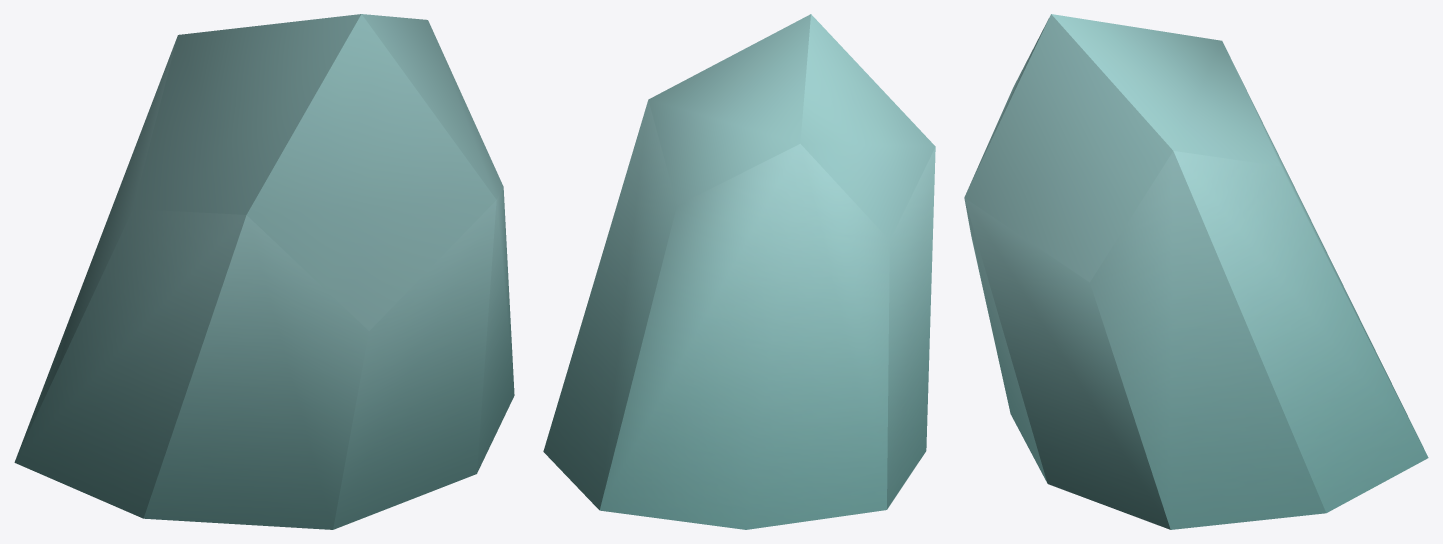
Rendered from Большой камень3.fbx.
3 renders of one model, left to right at view 1: azimuth 30°, elevation 25°; view 2: azimuth 150°, elevation 25°; view 3: azimuth 270°, elevation 25°, orthographic. The views are drawn at different scales.
Visible parts, largest first — view 1: Большой_камень3; view 2: Большой_камень3; view 3: Большой_камень3.
Part boxes in pixels (bbox=[...]): Большой_камень3: bbox=[14, 14, 514, 529]; Большой_камень3: bbox=[543, 14, 935, 529]; Большой_камень3: bbox=[964, 14, 1428, 529].
Size of the model in its own units: 34.34 by 35.95 by 35.85.
